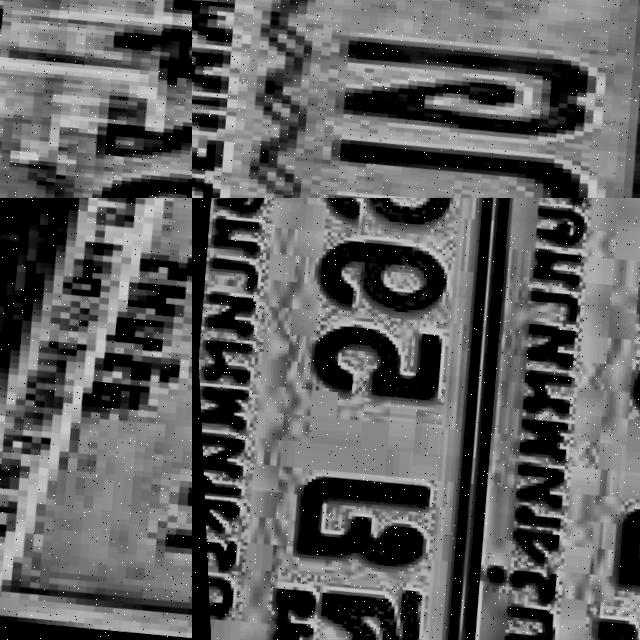license-plate: (192, 198, 533, 640), (429, 198, 640, 640), (192, 0, 640, 198), (0, 198, 192, 640), (0, 0, 192, 198)
